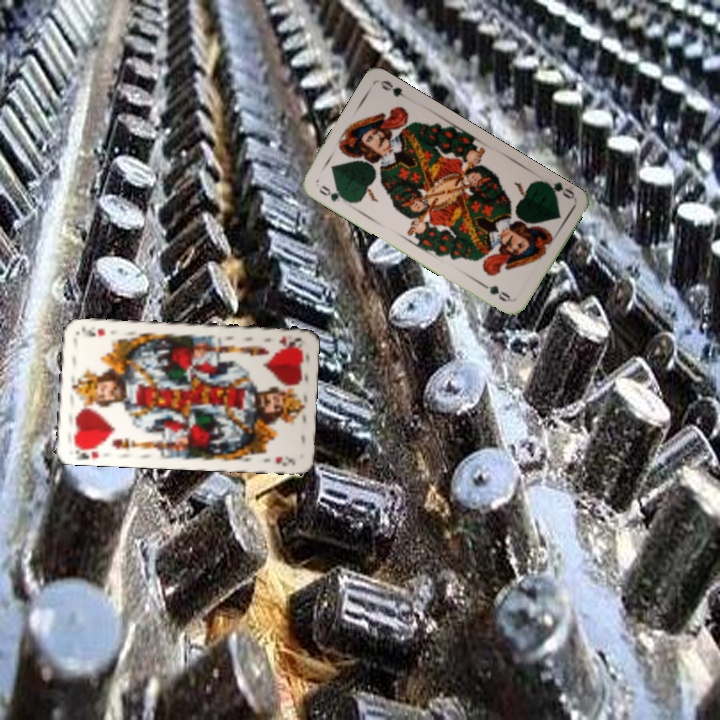GO: (538, 177, 577, 202), (315, 181, 352, 205)
HK: (70, 441, 106, 461), (275, 332, 303, 349)
